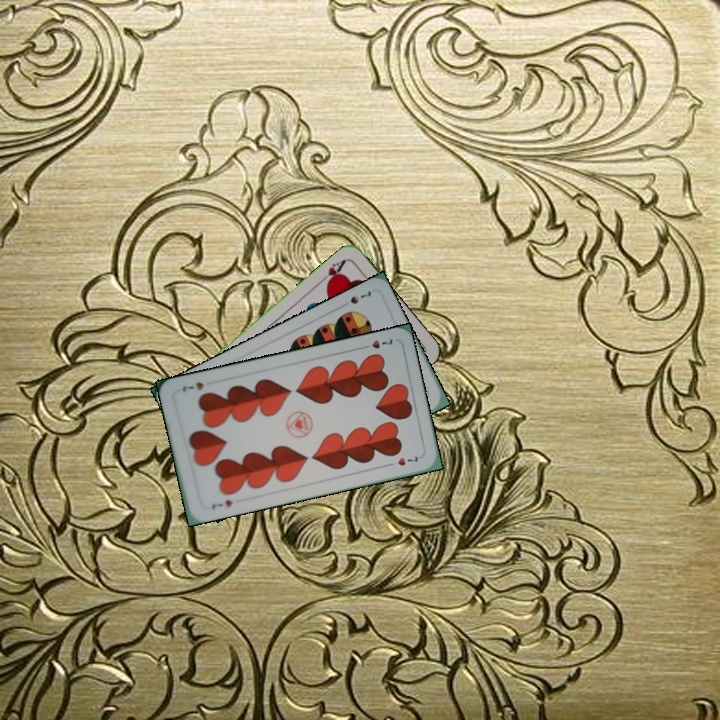H7: (357, 334, 395, 352), (208, 496, 234, 511)
HA: (315, 255, 349, 289)
S7: (337, 287, 374, 310)
